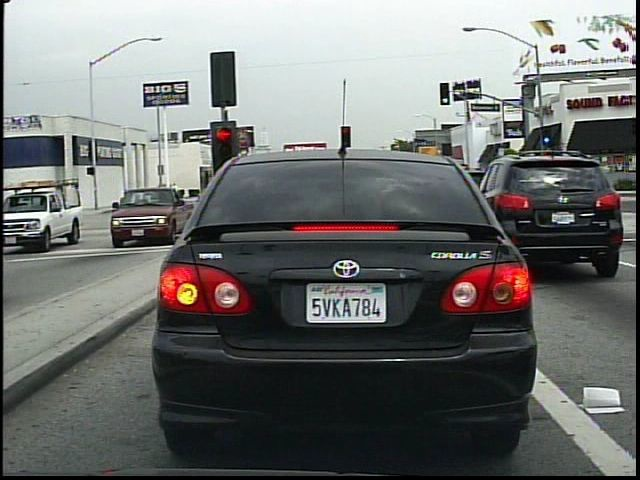person: (163, 172, 185, 203)
